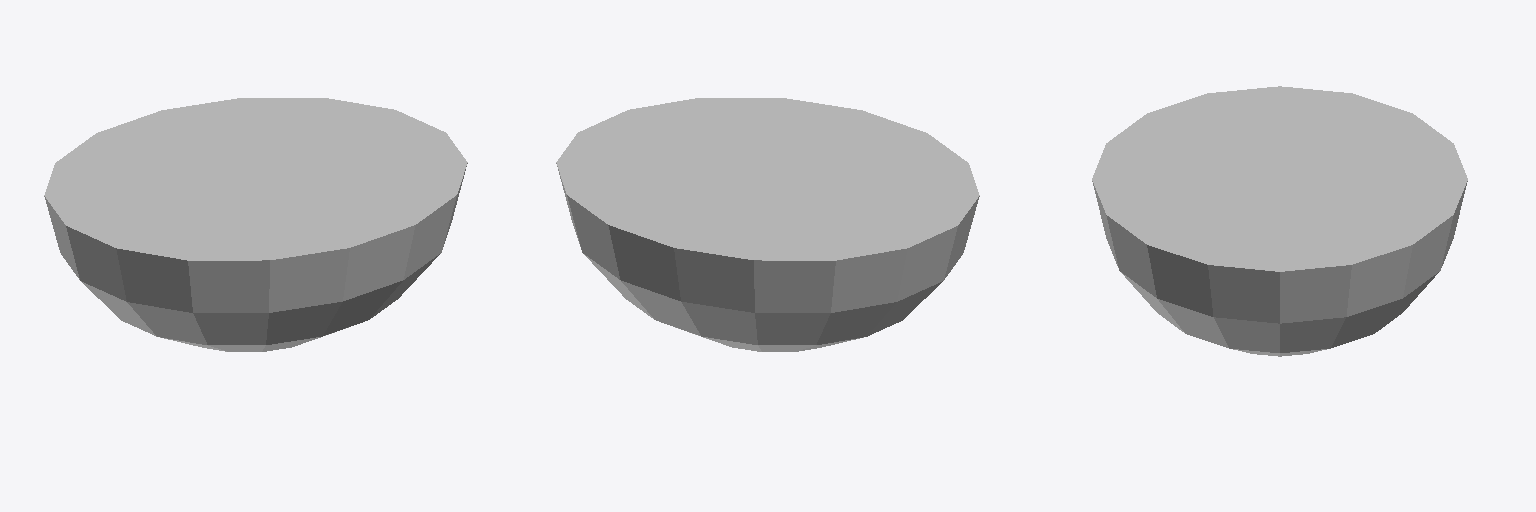
The model's file is obj slice.obj.
3 renders of one model, left to right at view 1: azimuth 30°, elevation 25°; view 2: azimuth 150°, elevation 25°; view 3: azimuth 270°, elevation 25°, orthographic.
Visible parts, largest first — view 1: Sphere; view 2: Sphere; view 3: Sphere.
Part boxes in pixels (x1,y1,x2,y2): Sphere: (44,98,467,351); Sphere: (556,98,979,351); Sphere: (1092,86,1467,356).
Bounding box in the file's own units: 16.44 × 6.35 × 14.08.